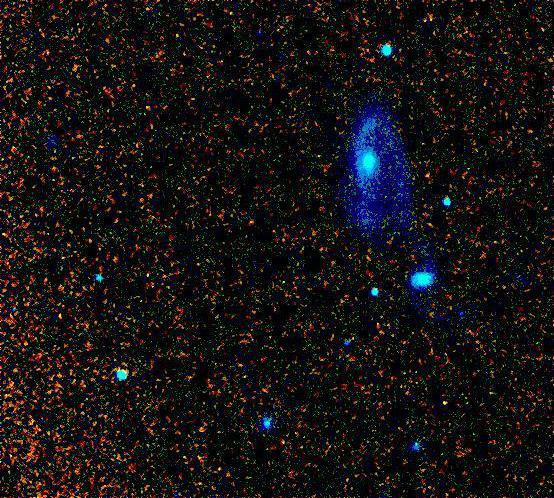star: (356, 123, 386, 153)
